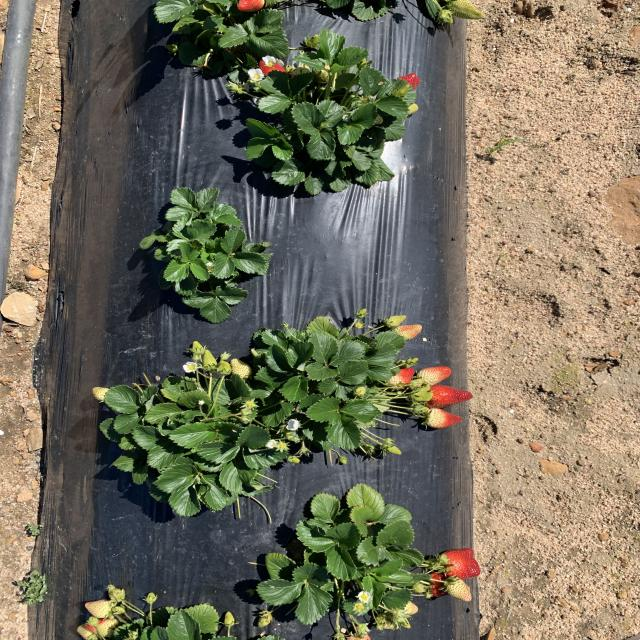unripe: (252, 56, 295, 92), (437, 548, 482, 580), (386, 70, 423, 104), (425, 384, 473, 408), (421, 570, 455, 596), (234, 0, 266, 12)
